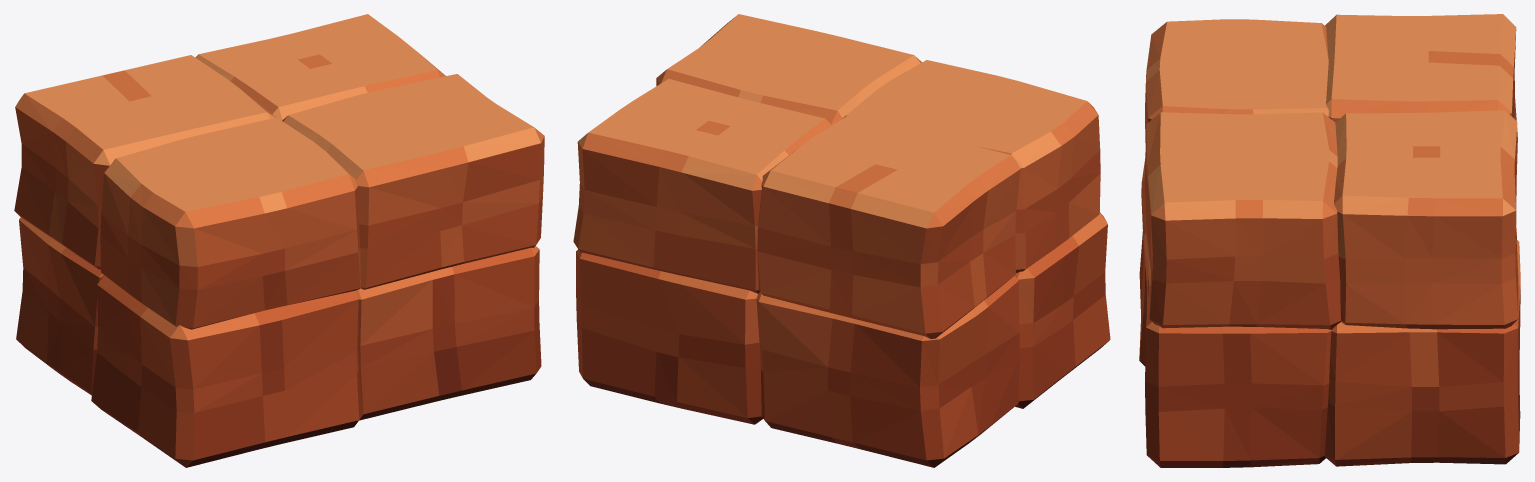
The model's file is SM_ROCK_BLOCK_10.fbx.
The picture shows the model from 3 angles, left to right: view 1: azimuth 30°, elevation 25°; view 2: azimuth 150°, elevation 25°; view 3: azimuth 270°, elevation 25°; orthographic projection. The views are drawn at different scales.
Visible parts, largest first — view 1: ROCK_BLOCK_10; view 2: ROCK_BLOCK_10; view 3: ROCK_BLOCK_10.
Part boxes in pixels (bbox=[...]): ROCK_BLOCK_10: bbox=[14, 14, 544, 467]; ROCK_BLOCK_10: bbox=[573, 14, 1110, 467]; ROCK_BLOCK_10: bbox=[1139, 14, 1520, 467].
Size of the model in its own units: 1.71 by 1.39 by 1.1.
